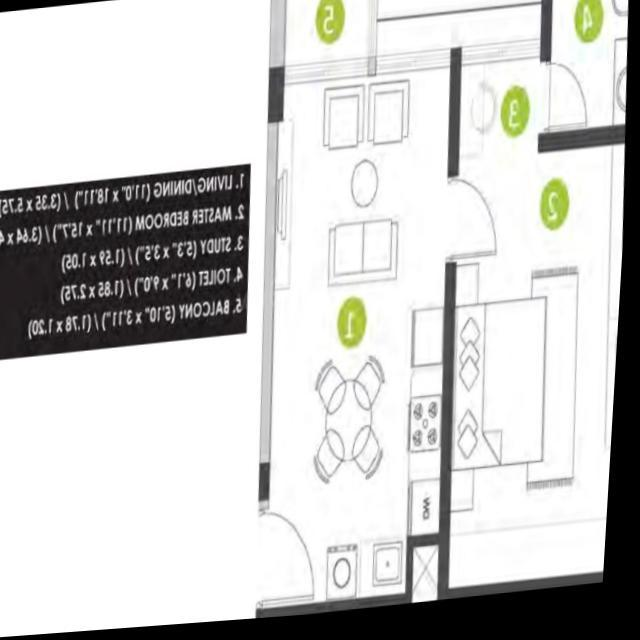Balcony-Sitout: (286, 0, 369, 74)
Bedroom with Toilet: (456, 155, 627, 592)
Dining: (309, 347, 396, 505)
Enterance-Foyer: (265, 503, 324, 619)
Living: (278, 70, 448, 311)
Toilet: (551, 0, 629, 139)
